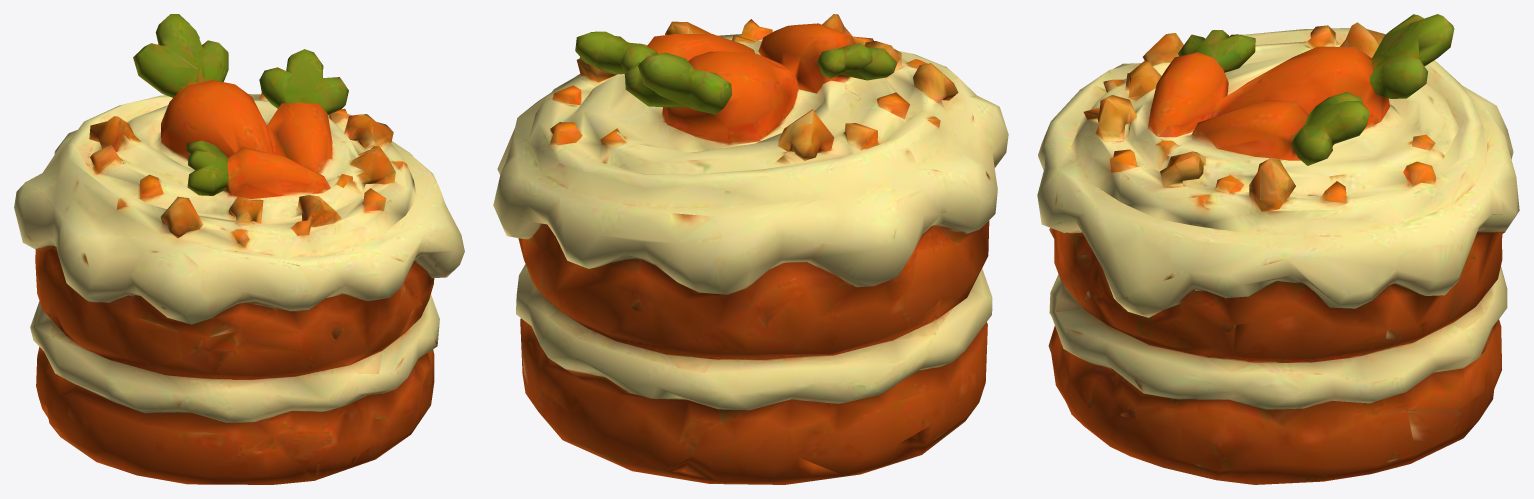
3 views of the same model, side by side, from view 1: azimuth 30°, elevation 25°; view 2: azimuth 150°, elevation 25°; view 3: azimuth 270°, elevation 25° (orthographic). The views are drawn at different scales.
Visible parts, largest first — view 1: carrot-cake; view 2: carrot-cake; view 3: carrot-cake.
Part boxes in pixels (<box>): carrot-cake: <box>14,14,464,484</box>; carrot-cake: <box>493,14,1008,484</box>; carrot-cake: <box>1037,14,1519,484</box>.
Size of the model in its own units: 0.3501 by 0.3095 by 0.3513.
1 material, 1 textured.
